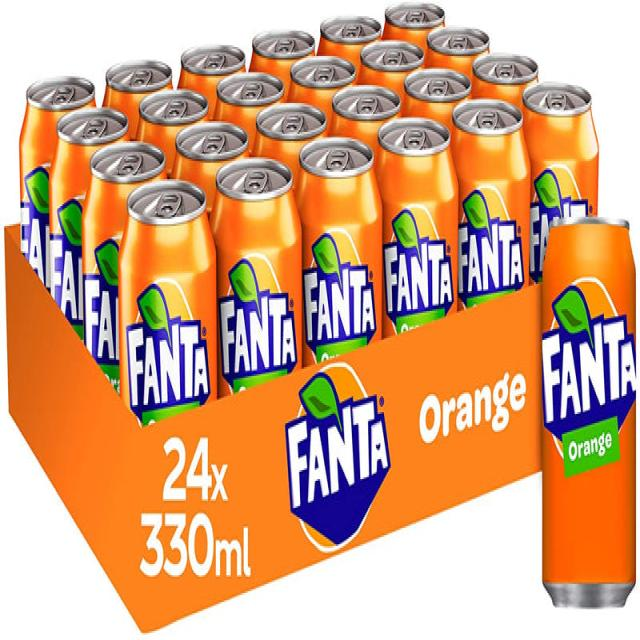fanta: (538, 212, 637, 614), (118, 180, 217, 454), (213, 157, 302, 399), (85, 150, 171, 393), (50, 105, 133, 347), (295, 135, 382, 365), (16, 80, 97, 301), (450, 99, 529, 320), (375, 123, 456, 335), (520, 83, 598, 293)
